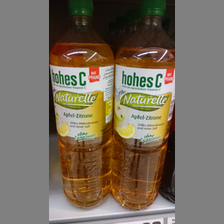juice: (113, 1, 176, 210), (51, 1, 112, 208)
